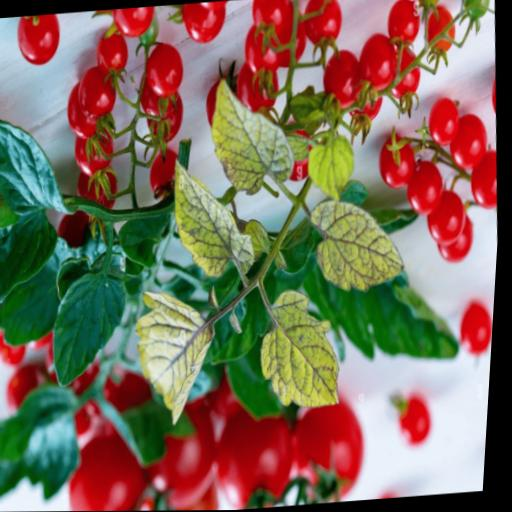Healthy: (45, 264, 136, 391), (0, 111, 88, 230), (0, 211, 66, 310)
Yellow Leaf Curl Virus: (131, 279, 230, 432), (165, 148, 266, 296), (203, 66, 302, 197), (256, 285, 350, 413), (306, 193, 413, 299), (305, 126, 362, 197)
